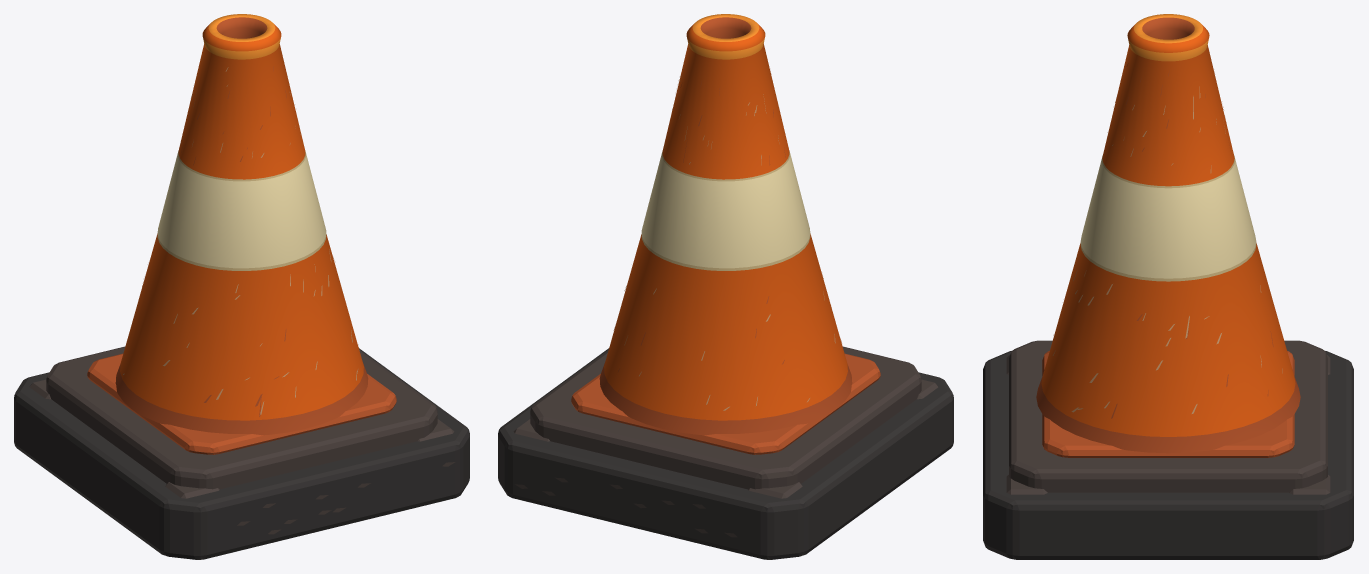
The model's file is wsc-prop-010-traffic-cone.glb.
3 views of the same model, side by side, from view 1: azimuth 30°, elevation 25°; view 2: azimuth 150°, elevation 25°; view 3: azimuth 270°, elevation 25° (orthographic). The views are drawn at different scales.
Parts seen in each view (by area): view 1: wsc-prop-010-traffic-cone; view 2: wsc-prop-010-traffic-cone; view 3: wsc-prop-010-traffic-cone.
Boxes of the visible parts, x1,y1,x2,y2 form: wsc-prop-010-traffic-cone: (14,14,469,559); wsc-prop-010-traffic-cone: (498,14,953,559); wsc-prop-010-traffic-cone: (983,14,1353,559).
Bounding box in the file's own units: 0.578 × 0.784 × 0.58.
